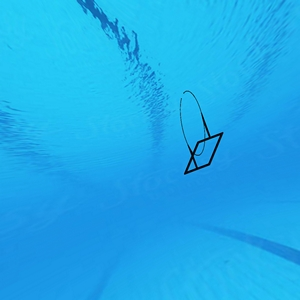circle: (172, 88, 225, 178)
